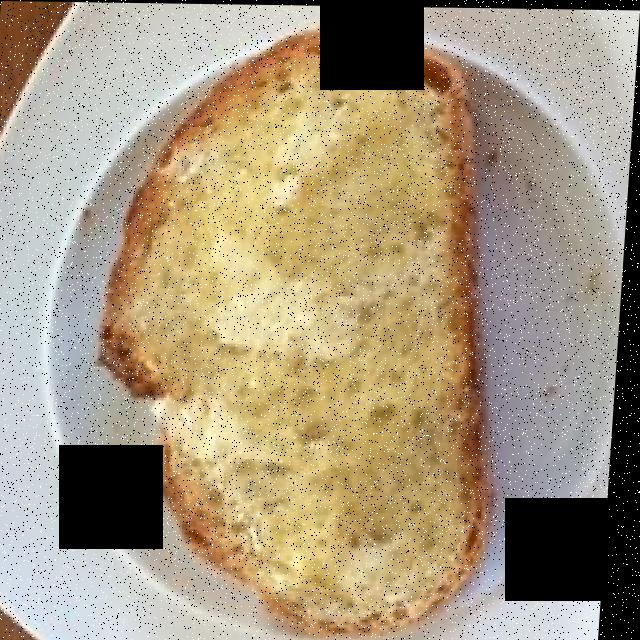bread: (114, 35, 488, 625)
